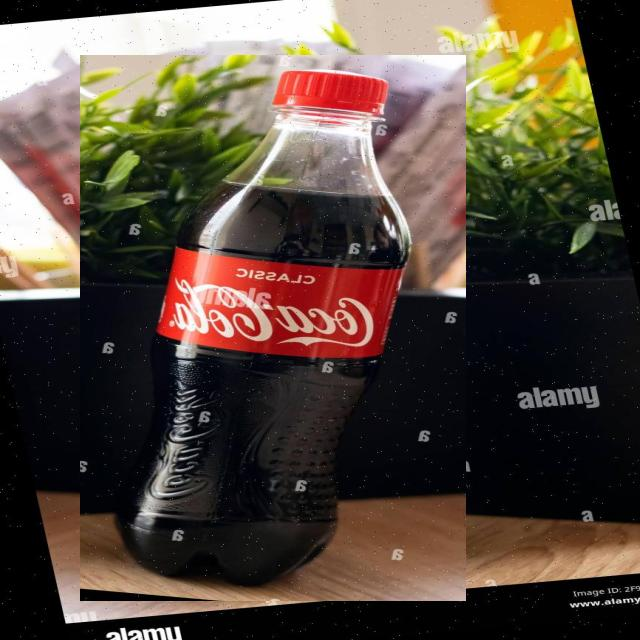coca-cola: (80, 55, 466, 601)
